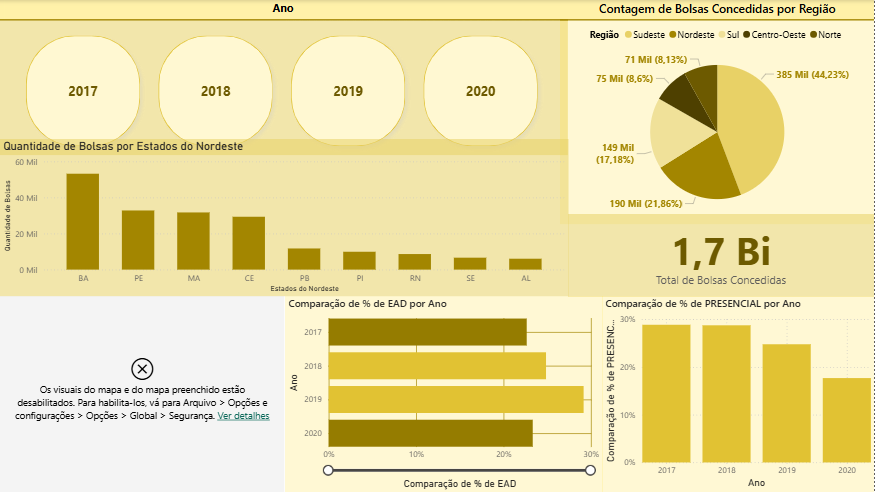

The page's visual inventory and layout, read from the dashboard file:
{"tool":"powerbi","page":{"name":"Página 1","canvas":[1280,720],"ordinal":0},"visuals":[{"type":"advancedSlicerVisual","fields":{"Values":["ProuniRelatorioDadosAbertos2020.Ano"]},"box":[0,0,831.9,227.5],"z":0},{"type":"pieChart","fields":{"Y":["CountNonNull(ProuniRelatorioDadosAbertos2020.Curso)"],"Category":["ProuniRelatorioDadosAbertos2020.Região"]},"box":[819.4,0,460.3,327.8],"z":1000},{"type":"card","fields":{"Values":["Sum(ProuniRelatorioDadosAbertos2020.Codigo)"]},"box":[831.9,312.5,447.8,120.9],"z":2000},{"type":"map","fields":{"Category":["ProuniRelatorioDadosAbertos2020.UF"],"Size":["CountNonNull(ProuniRelatorioDadosAbertos2020.Municipio)"],"Series":["ProuniRelatorioDadosAbertos2020.Raça"]},"box":[0,433.4,416.4,286.6],"z":3000},{"type":"barChart","fields":{"Y":["CountNonNull(ProuniRelatorioDadosAbertos2020.Modalidade)"],"Category":["ProuniRelatorioDadosAbertos2020.Ano"]},"box":[416.4,433.4,464.8,286.6],"z":4000},{"type":"columnChart","fields":{"Category":["ProuniRelatorioDadosAbertos2020.Ano"],"Y":["CountNonNull(ProuniRelatorioDadosAbertos2020.Modalidade)"]},"box":[881.2,433.4,398.5,286.6],"z":5000},{"type":"clusteredColumnChart","fields":{"Category":["ProuniRelatorioDadosAbertos2020.UF"],"Y":["CountNonNull(ProuniRelatorioDadosAbertos2020.Curso)"]},"box":[0,203.3,831.9,230.1],"z":6000}]}

Visuals, with their boxes in screenshot pixels (x1, y1, x2, y2), scaled from the page's 1280x720 canvas onto the 875x492 screenshot:
advancedSlicerVisual - ProuniRelatorioDadosAbertos2020.Ano: crop(0, 0, 569, 155)
pieChart - CountNonNull(ProuniRelatorioDadosAbertos2020.Curso) x ProuniRelatorioDadosAbertos2020.Região: crop(560, 0, 874, 224)
card - Sum(ProuniRelatorioDadosAbertos2020.Codigo): crop(569, 214, 874, 296)
map - ProuniRelatorioDadosAbertos2020.UF x CountNonNull(ProuniRelatorioDadosAbertos2020.Municipio): crop(0, 296, 285, 491)
barChart - CountNonNull(ProuniRelatorioDadosAbertos2020.Modalidade) x ProuniRelatorioDadosAbertos2020.Ano: crop(285, 296, 602, 491)
columnChart - ProuniRelatorioDadosAbertos2020.Ano x CountNonNull(ProuniRelatorioDadosAbertos2020.Modalidade): crop(602, 296, 874, 491)
clusteredColumnChart - ProuniRelatorioDadosAbertos2020.UF x CountNonNull(ProuniRelatorioDadosAbertos2020.Curso): crop(0, 139, 569, 296)
